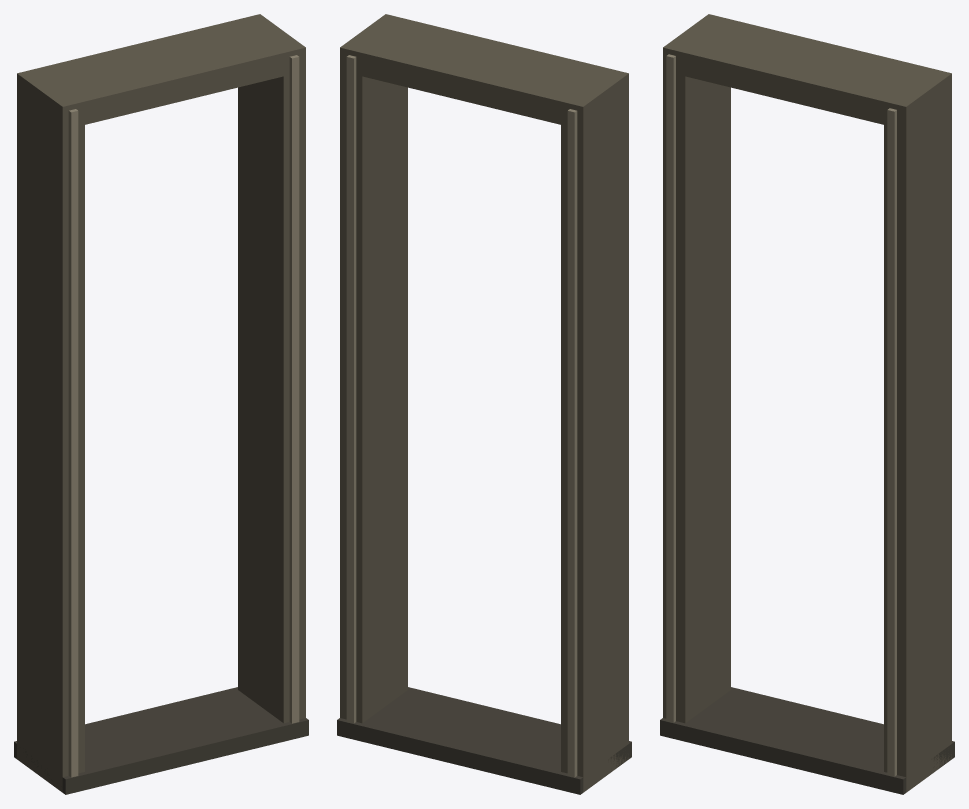
The model's file is CMU3DSingleSecurityGovforDoorOpen.glb.
The picture shows the model from 3 angles, left to right: view 1: azimuth 30°, elevation 25°; view 2: azimuth 150°, elevation 25°; view 3: azimuth 330°, elevation 25°; orthographic projection.
Parts seen in each view (by area): view 1: door jamb (×2), header, jamb raised edge (×2), threshold; view 2: door jamb (×2), header, jamb raised edge (×2), threshold; view 3: door jamb (×2), header, jamb raised edge (×2), threshold.
Boxes of the visible parts, x1,y1,x2,y2 form: door jamb (×2): (17, 14, 305, 792); header: (17, 14, 305, 129); jamb raised edge (×2): (68, 55, 299, 777); threshold: (14, 687, 308, 794); door jamb (×2): (340, 14, 628, 792); header: (340, 14, 628, 129); jamb raised edge (×2): (346, 55, 577, 777); threshold: (337, 687, 631, 794); door jamb (×2): (663, 14, 951, 792); header: (663, 14, 951, 129); jamb raised edge (×2): (666, 54, 896, 776); threshold: (660, 687, 954, 794).
Size of the model in its own units: 0.98 by 2.64 by 0.36.
